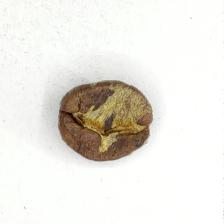NG: (68, 80, 153, 154)
